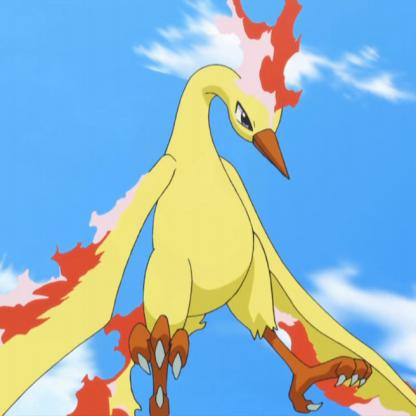Moltres: (1, 6, 416, 416)
